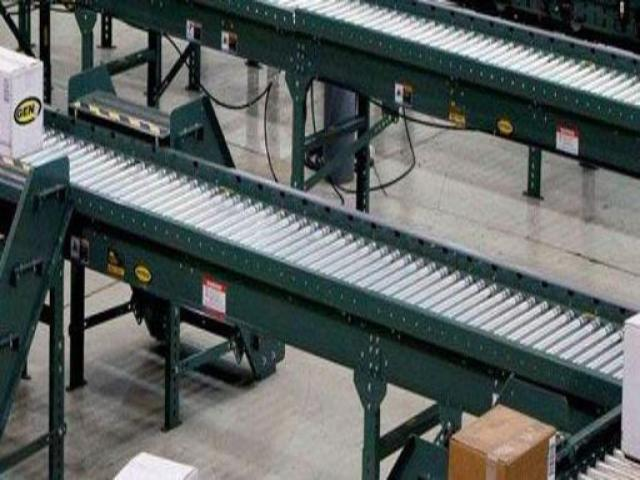conveyor: (0, 94, 640, 462)
